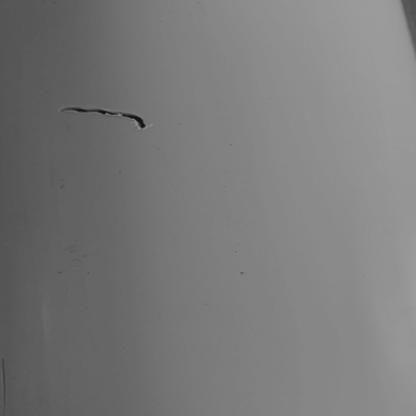fengxi: (54, 105, 146, 131)
